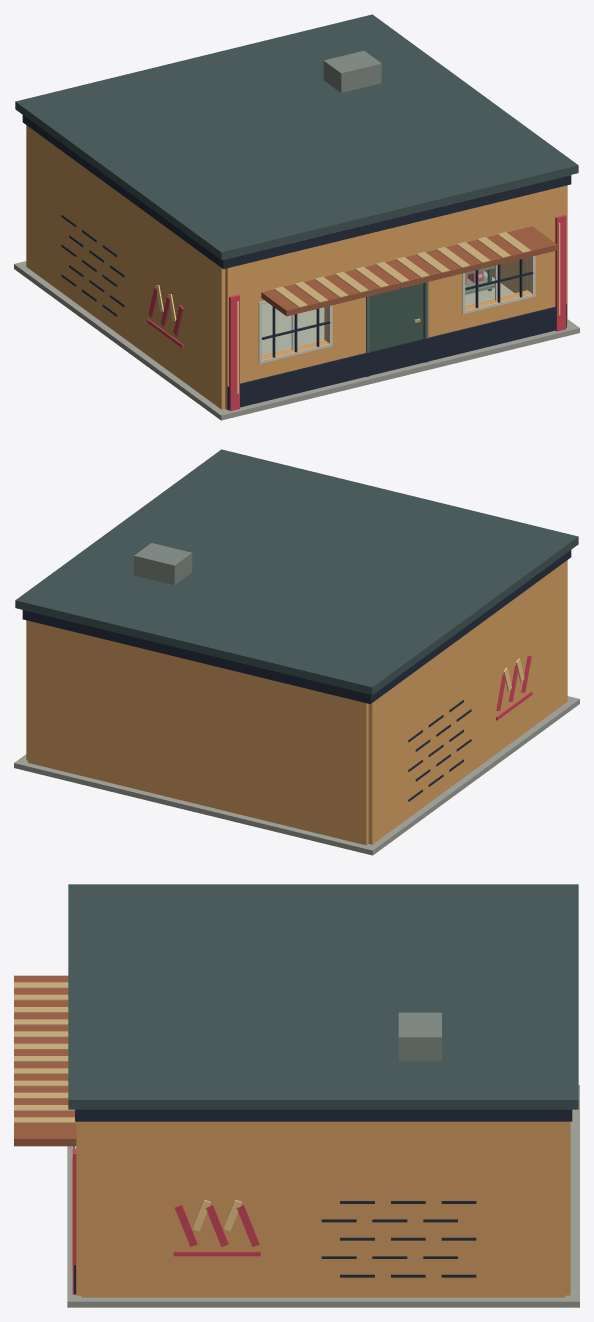
Rendered from store.glb.
3 views of the same model, one above another, from view 1: azimuth 30°, elevation 25°; view 2: azimuth 150°, elevation 25°; view 3: azimuth 270°, elevation 25° (orthographic). The views are drawn at different scales.
Visible parts, largest first — view 1: roof, side-wall (×2), front-wall (×7), painted-plinth, shop-awning, foundation, cornice-outline, window-glass (×2), door-panel, floor, corner-pilaster (×2), roof-vent; view 2: roof, back-wall, side-wall, foundation, cornice-outline, roof-vent; view 3: roof, side-wall, foundation, cornice-outline, shop-awning, roof-vent, back-wall, corner-pilaster.
Part boxes in pixels (x1,y1,x2,y2): roof: [15, 14, 578, 260]; side-wall (×2): [26, 125, 567, 409]; front-wall (×7): [225, 185, 565, 410]; painted-plinth: [227, 304, 566, 410]; shop-awning: [261, 226, 557, 316]; foundation: [14, 261, 579, 420]; cornice-outline: [22, 115, 571, 269]; window-glass (×2): [262, 258, 529, 356]; door-panel: [369, 283, 423, 351]; floor: [262, 271, 514, 354]; corner-pilaster (×2): [229, 215, 566, 411]; roof-vent: [323, 50, 381, 92]; roof: [15, 449, 578, 695]; back-wall: [28, 620, 368, 845]; side-wall: [368, 560, 567, 844]; foundation: [14, 696, 579, 855]; cornice-outline: [22, 550, 571, 704]; roof-vent: [134, 543, 192, 585]; roof: [68, 884, 578, 1109]; side-wall: [81, 1121, 565, 1297]; foundation: [67, 1085, 579, 1307]; cornice-outline: [75, 1109, 572, 1121]; shop-awning: [14, 975, 76, 1146]; roof-vent: [398, 1012, 441, 1061]; back-wall: [565, 1121, 570, 1295]; corner-pilaster: [72, 1148, 76, 1294].
Size of the model in its own units: 10.6 by 5.29 by 11.7.
